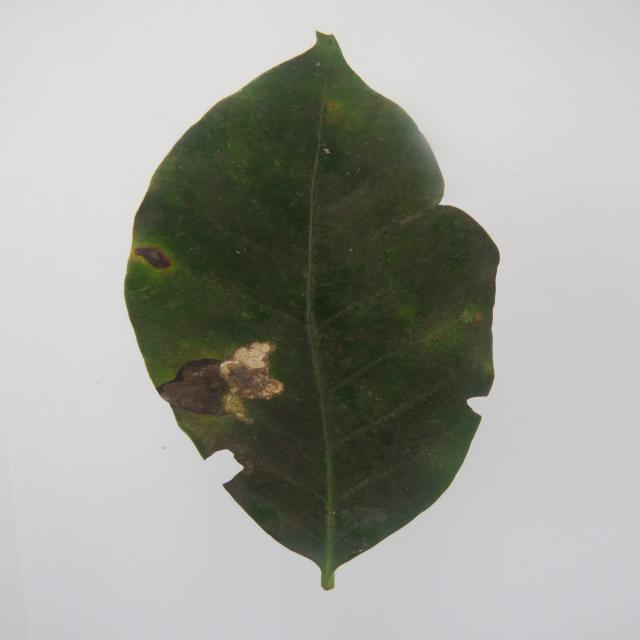DeficienciaNutricional-Potasio: (125, 34, 498, 590)
